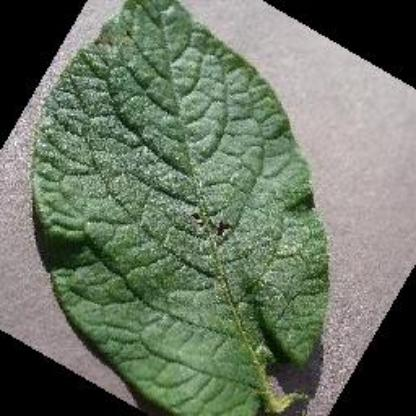Healthy-plant: (30, 0, 351, 414)
